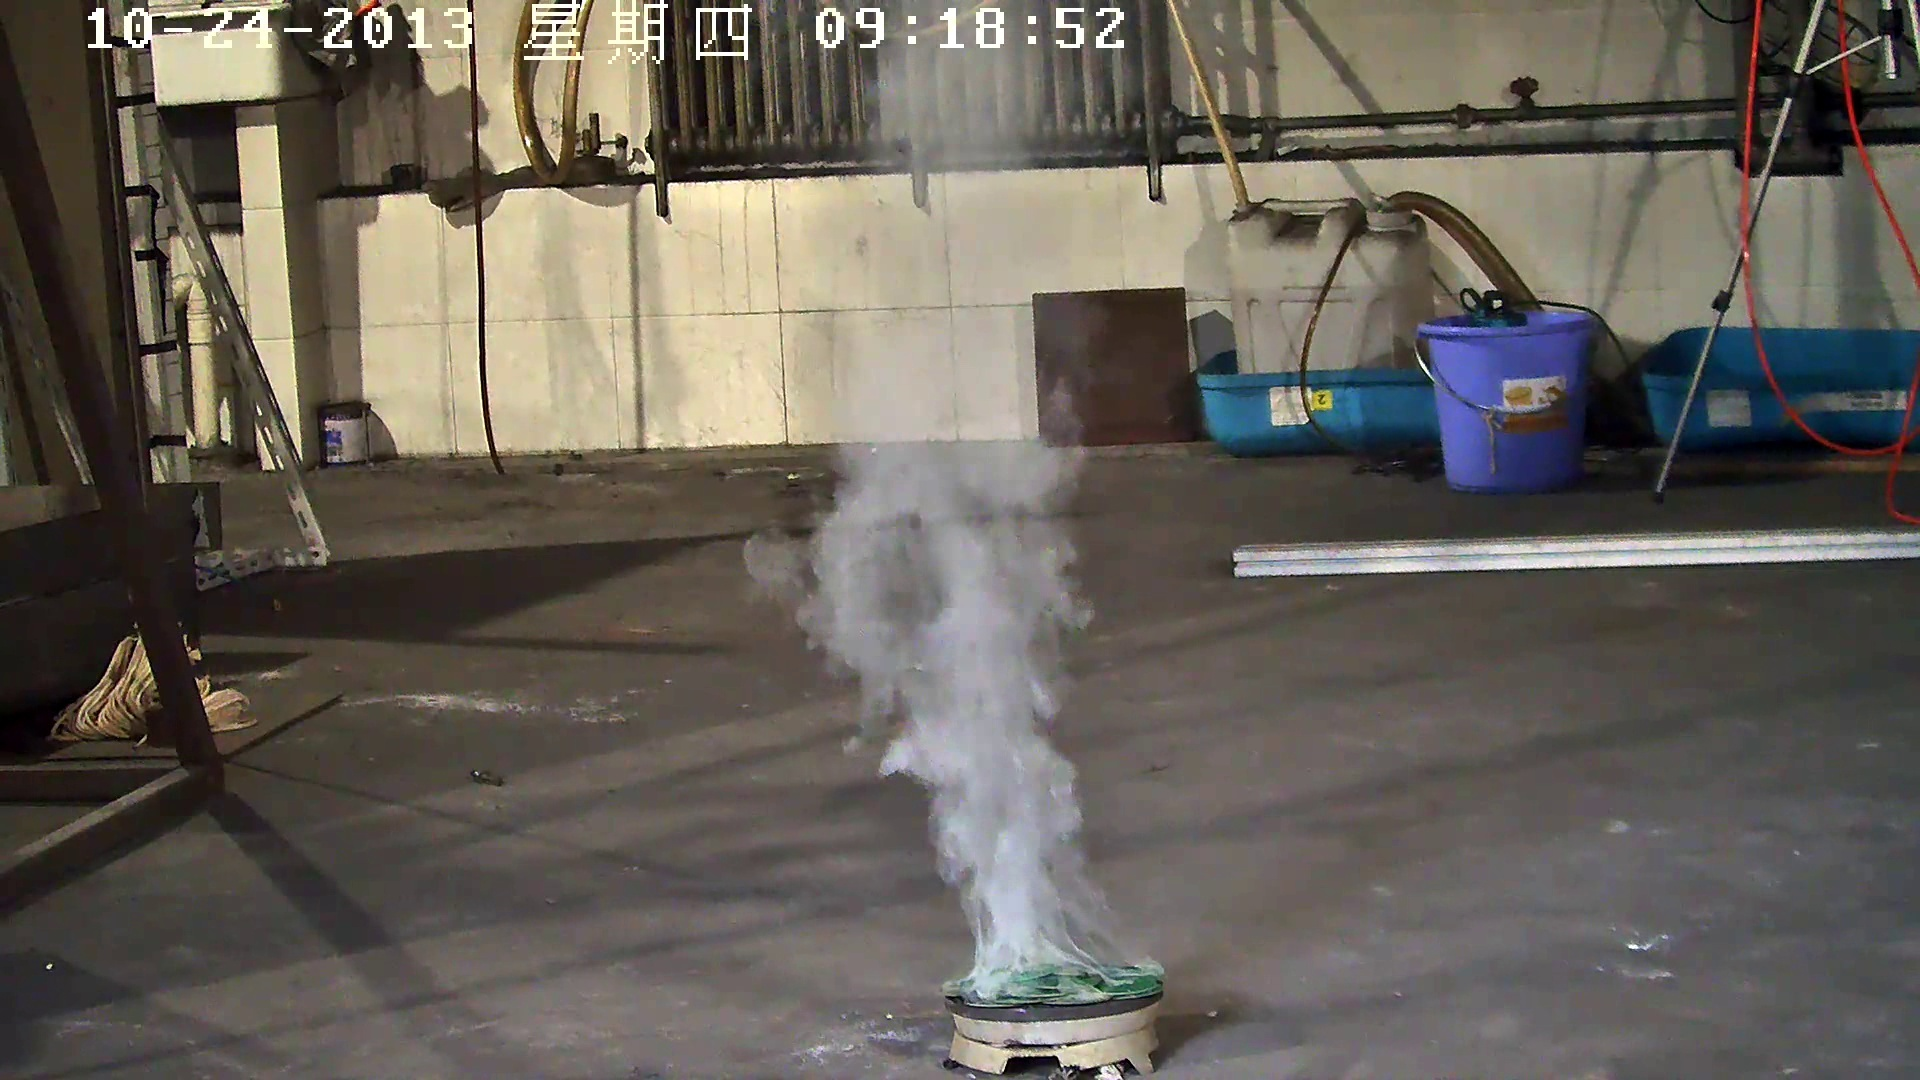smoke: (723, 195, 1168, 992)
